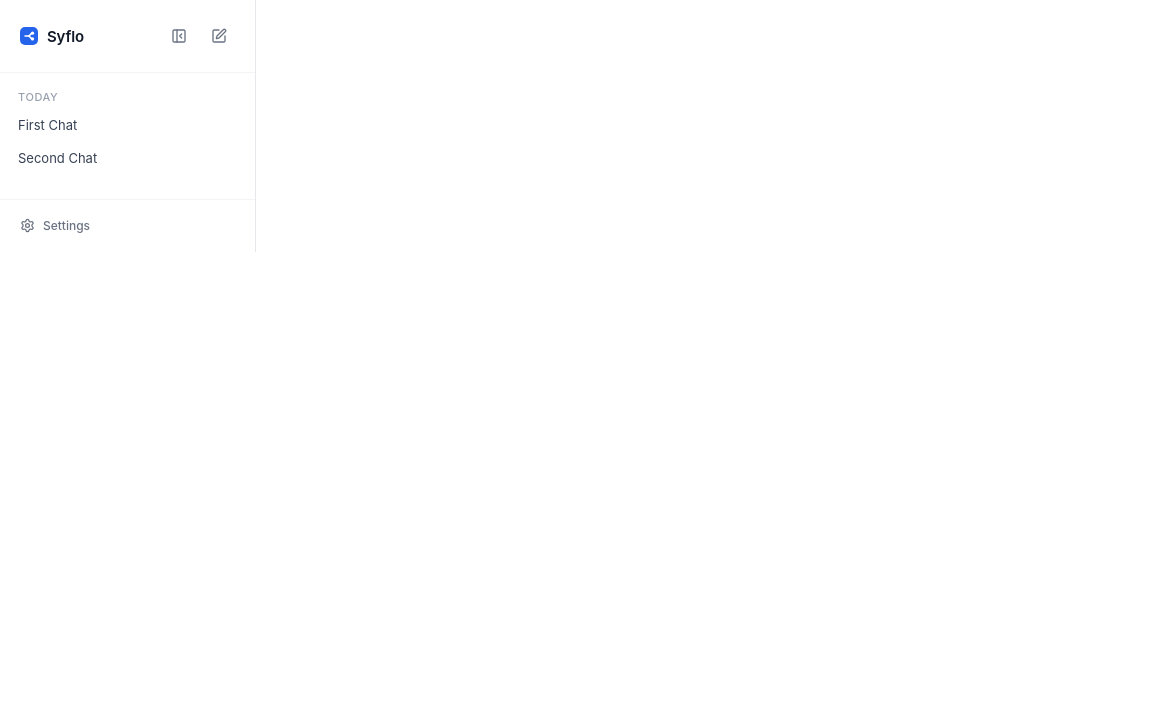
Test: Sidebar › clicking Delete in context menu opens the confirmation dialog
Right-click the text "First Chat" at (48, 124), box [18, 116, 77, 132]
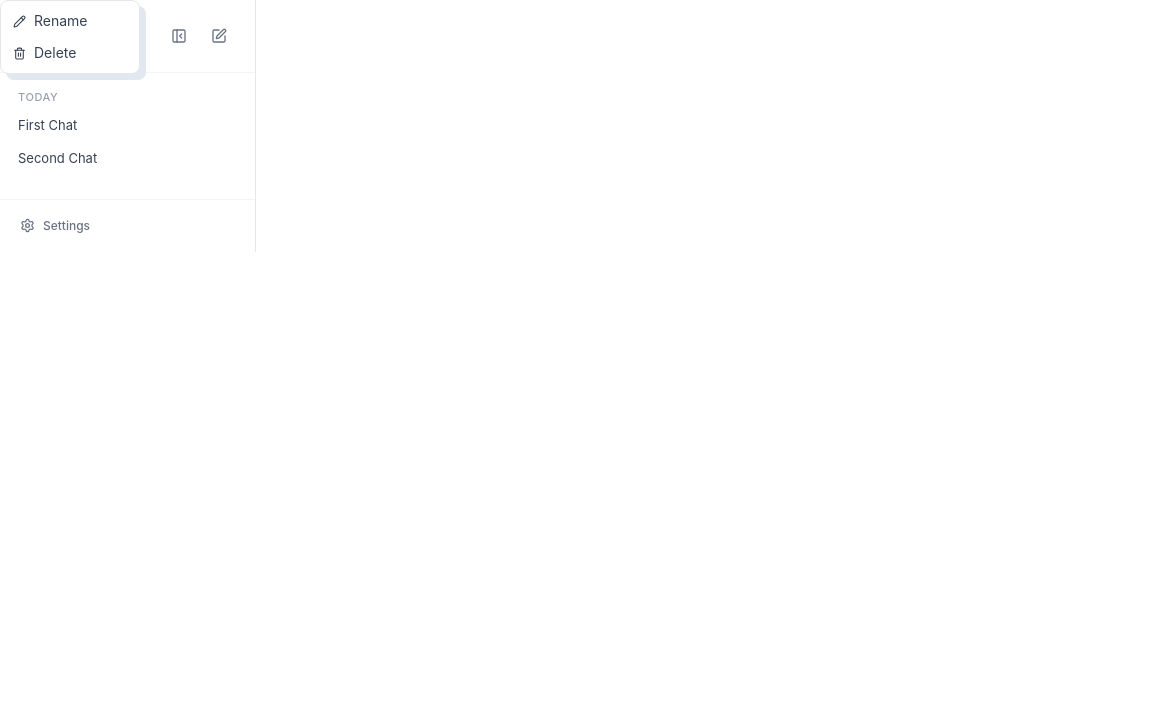
Click the button "Delete" at (70, 53), box [1, 37, 139, 69]
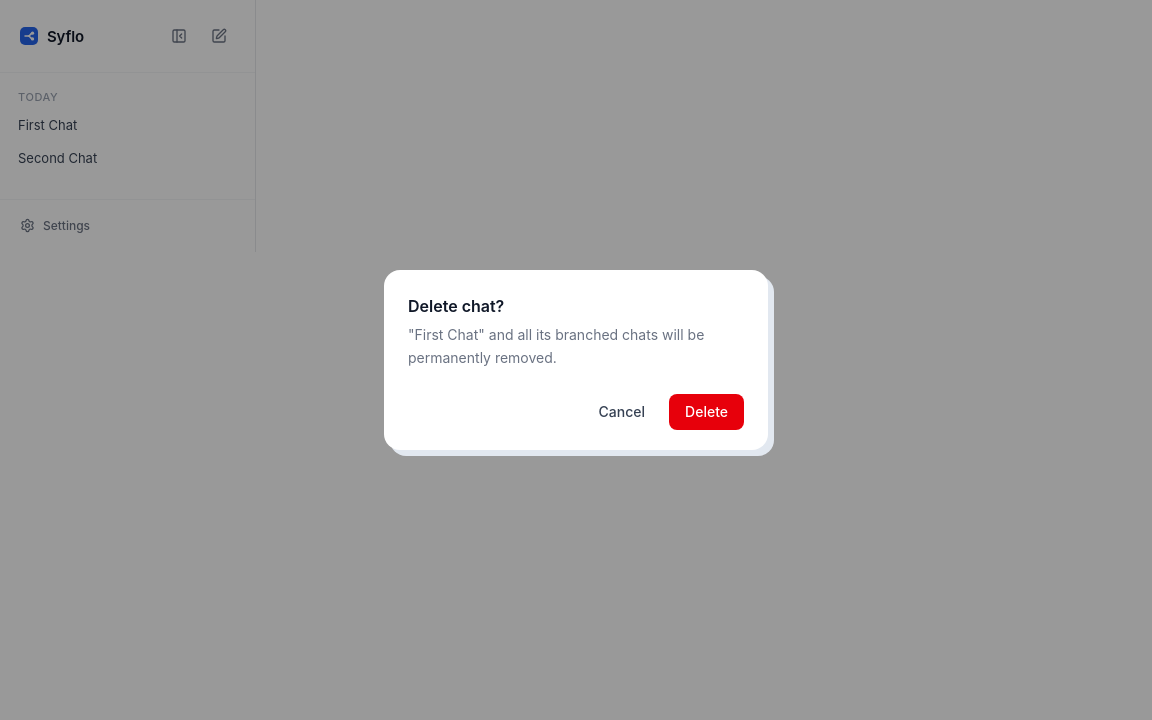
Result: the heading "Delete chat?" is shown at [408, 296, 504, 316]
